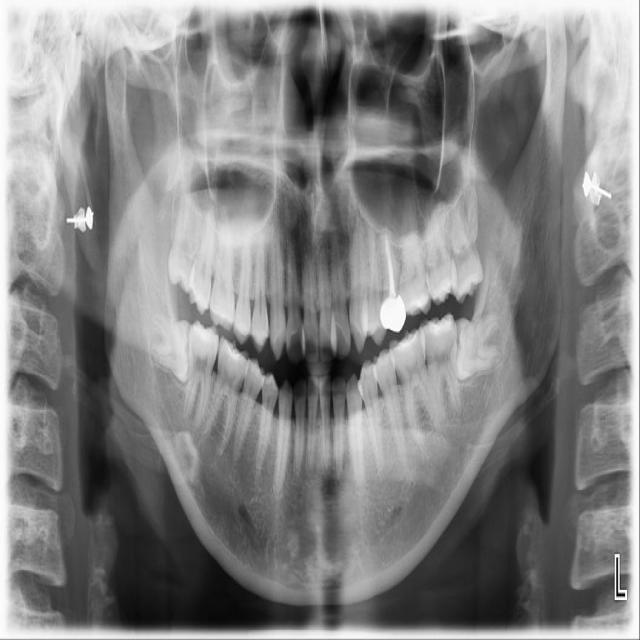Crown: (380, 289, 406, 333)
Root Canal Treatment: (386, 239, 393, 294)
impacted tooth: (456, 311, 512, 380), (142, 313, 189, 380)
